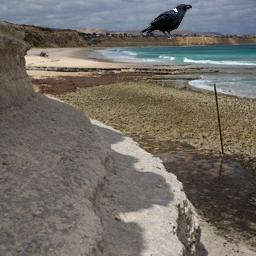Crow: (140, 4, 192, 42)
